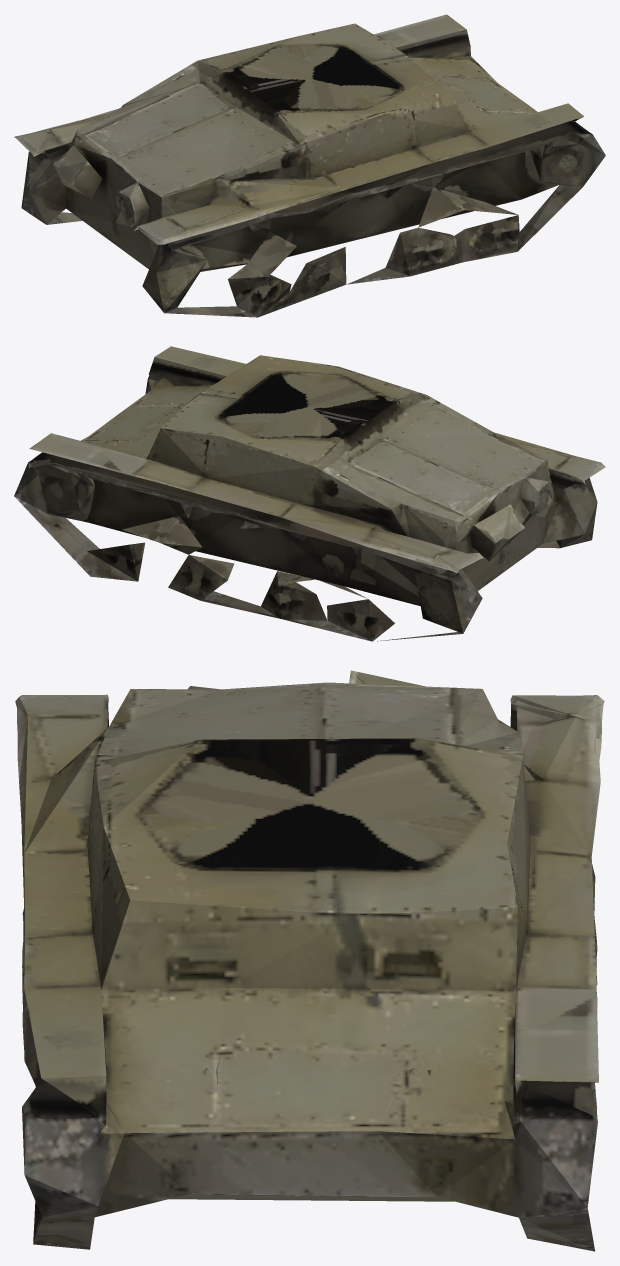
The model's file is hull.obj.
3 views of the same model, one above another, from view 1: azimuth 30°, elevation 25°; view 2: azimuth 150°, elevation 25°; view 3: azimuth 270°, elevation 25° (orthographic). The views are drawn at different scales.
Size of the model in its own units: 0.9998 by 0.3333 by 0.564.
Materials: 1 (1 with a texture image).
